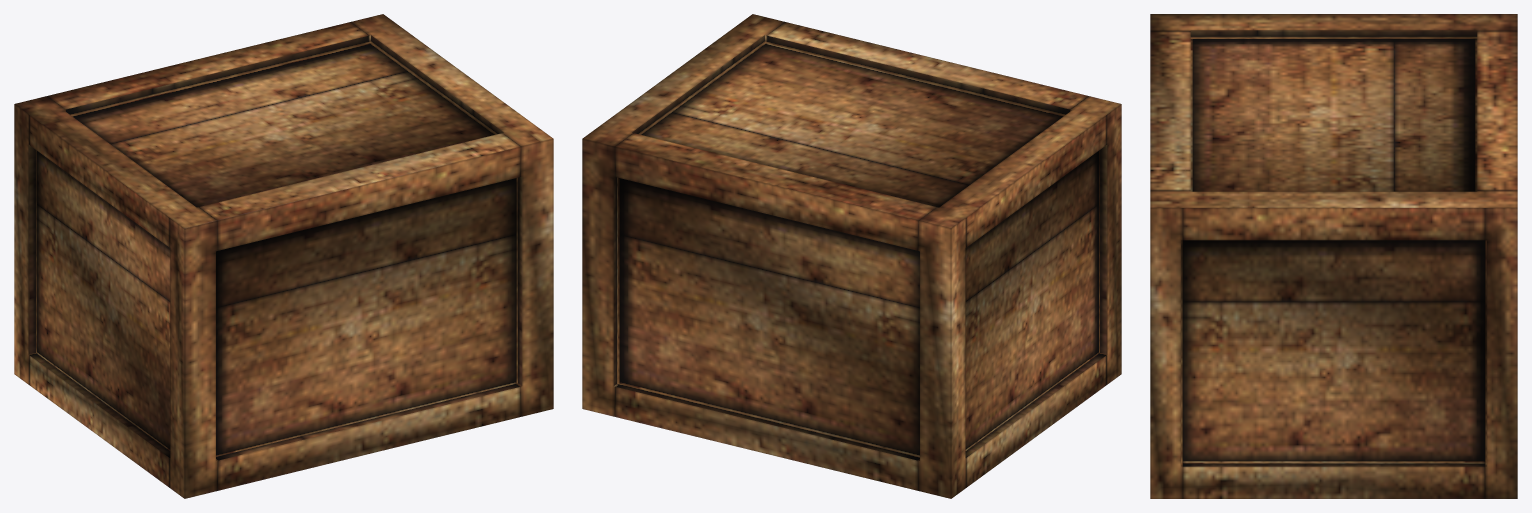
File: cratewood2.glb
The picture shows the model from 3 angles, left to right: view 1: azimuth 30°, elevation 25°; view 2: azimuth 150°, elevation 25°; view 3: azimuth 270°, elevation 25°; orthographic projection. The views are drawn at different scales.
Parts seen in each view (by area): view 1: CrateWood2; view 2: CrateWood2; view 3: CrateWood2.
Part boxes in pixels (x1,y1,x2,y2): CrateWood2: [14, 14, 553, 498]; CrateWood2: [582, 14, 1121, 498]; CrateWood2: [1150, 14, 1517, 498].
Size of the model in its own units: 1 by 0.7 by 0.8.
Materials: 1 (1 with a texture image).
